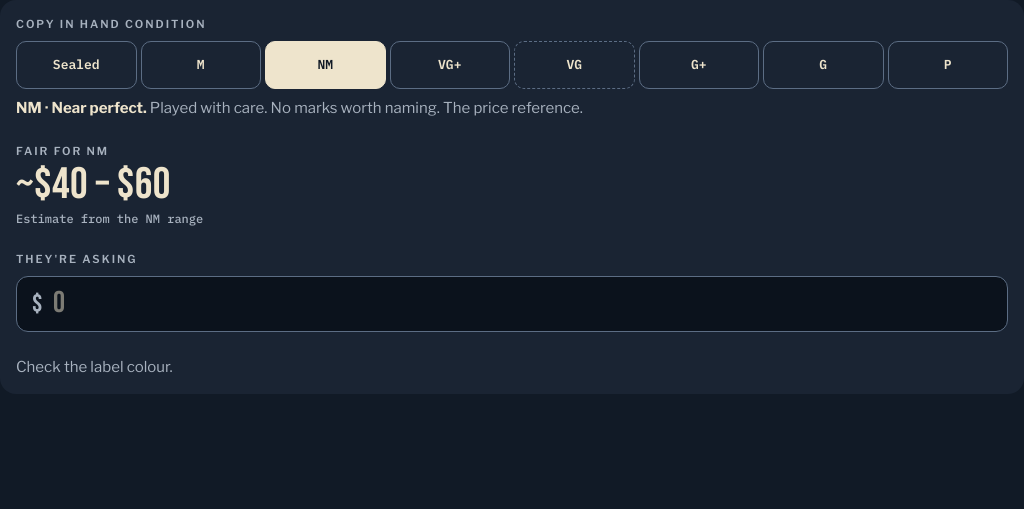
it: PriceCheck › gives a verdict for the asking price
The width and height of the screenshot is (1024, 509).
Click the radio button labelled "VG": point(574, 64) x1=514 y1=40 x2=634 y2=88
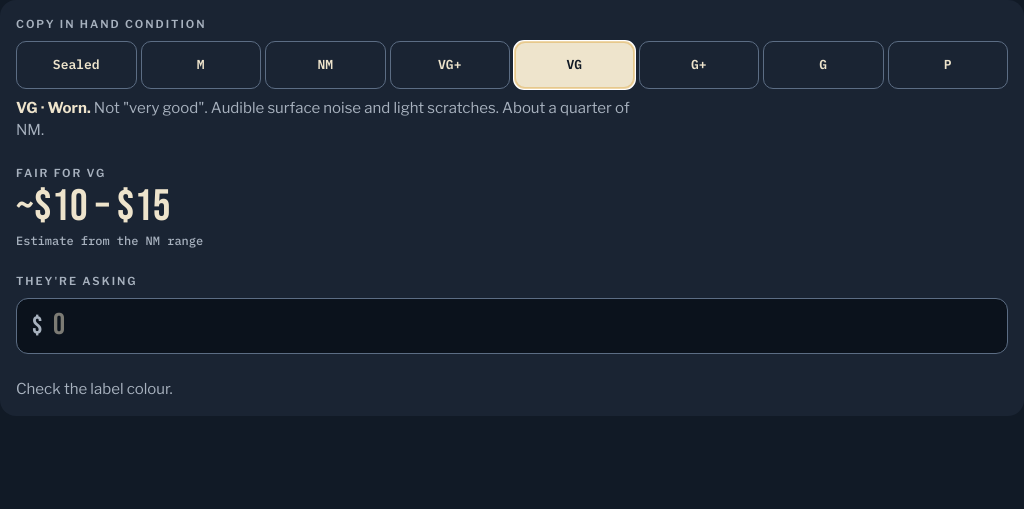
In the field labelled "They're asking": point(512, 326) x1=16 y1=298 x2=1008 y2=354, type "12"
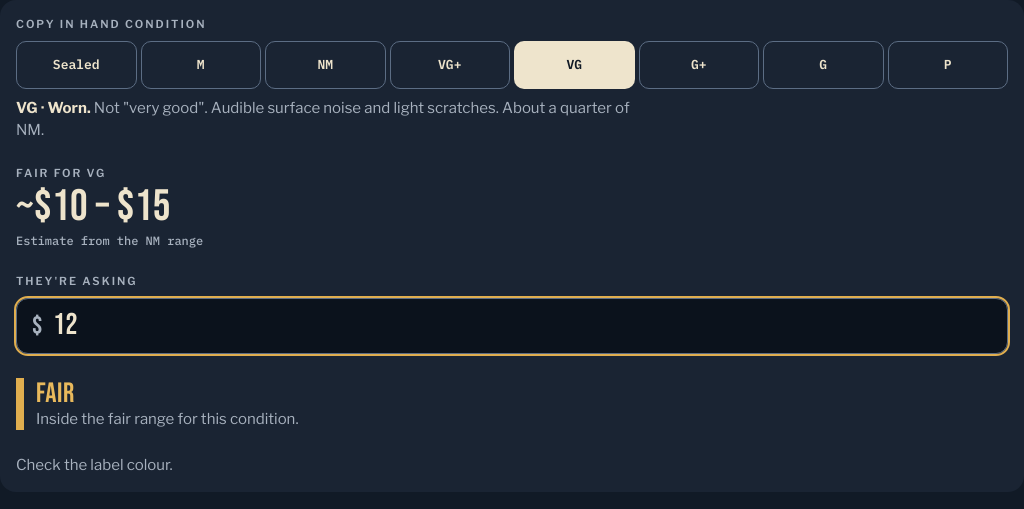
Now the message shows "Fair", box x1=36 y1=376 x2=75 y2=410
Replace the text in the field labelled "They're asking" with "25": point(512, 326) x1=16 y1=298 x2=1008 y2=354
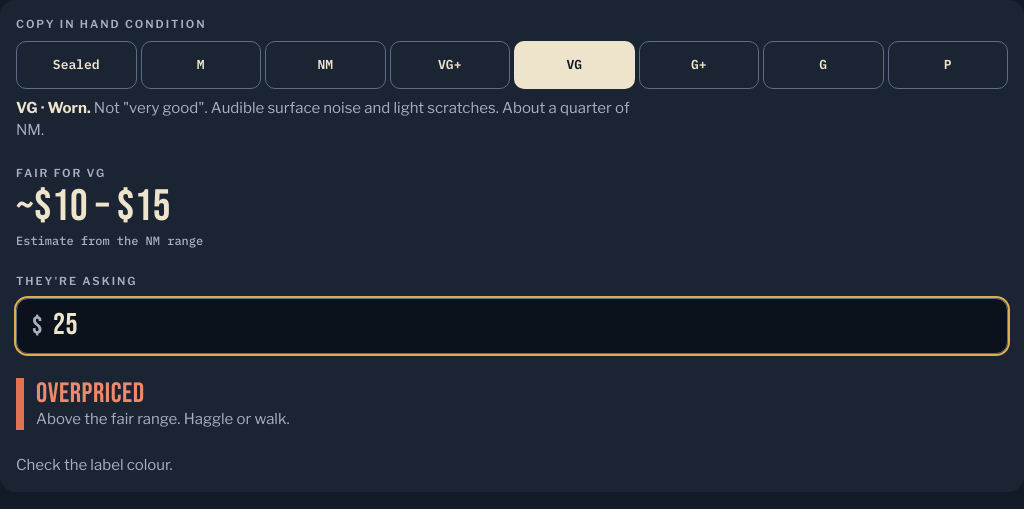
Now the message shows "Overpriced", box x1=36 y1=376 x2=145 y2=410
